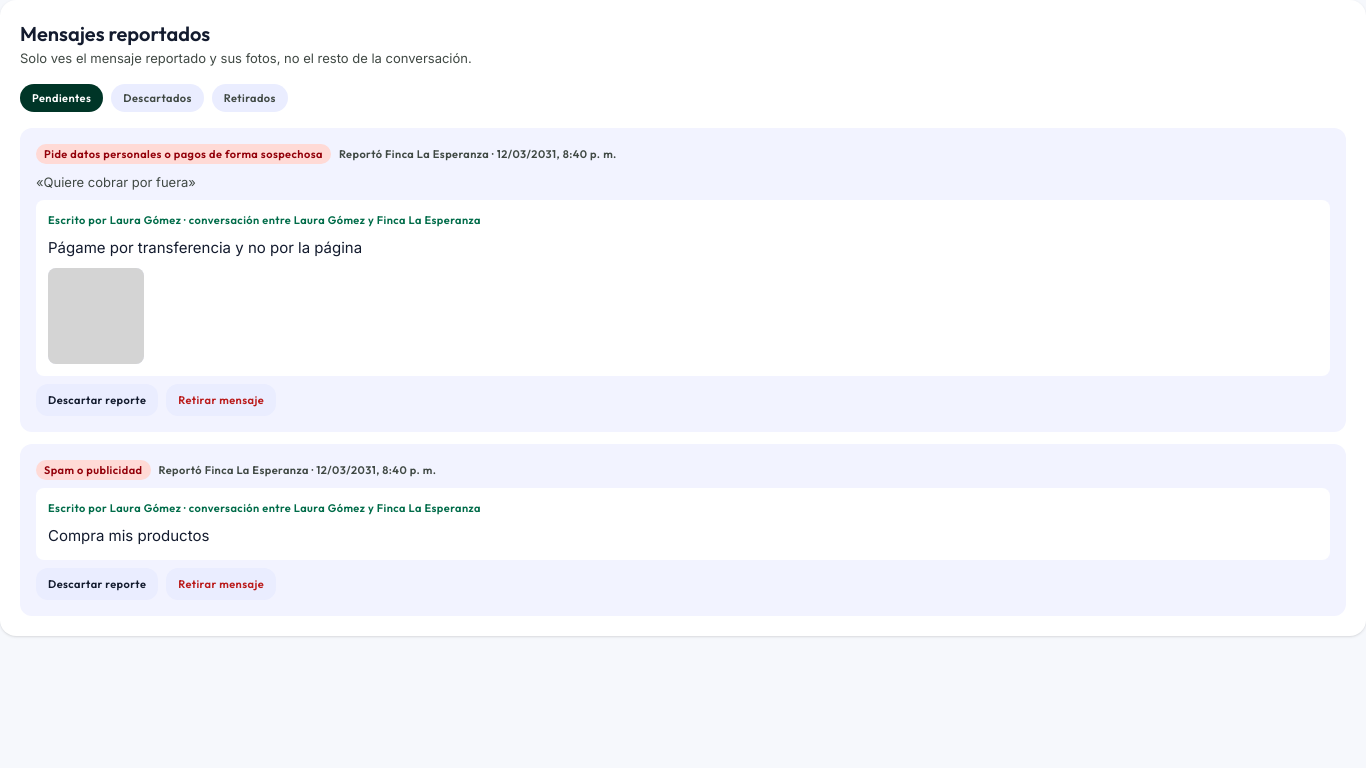
ReportesMensajesAdmin › si resolver falla muestra el motivo y deja el reporte donde estaba
Check: the text "Compra mis productos" is shown, box [48, 526, 209, 545]
Click the button "Descartar reporte" below "Compra mis productos" at [97, 584], box [36, 568, 158, 600]
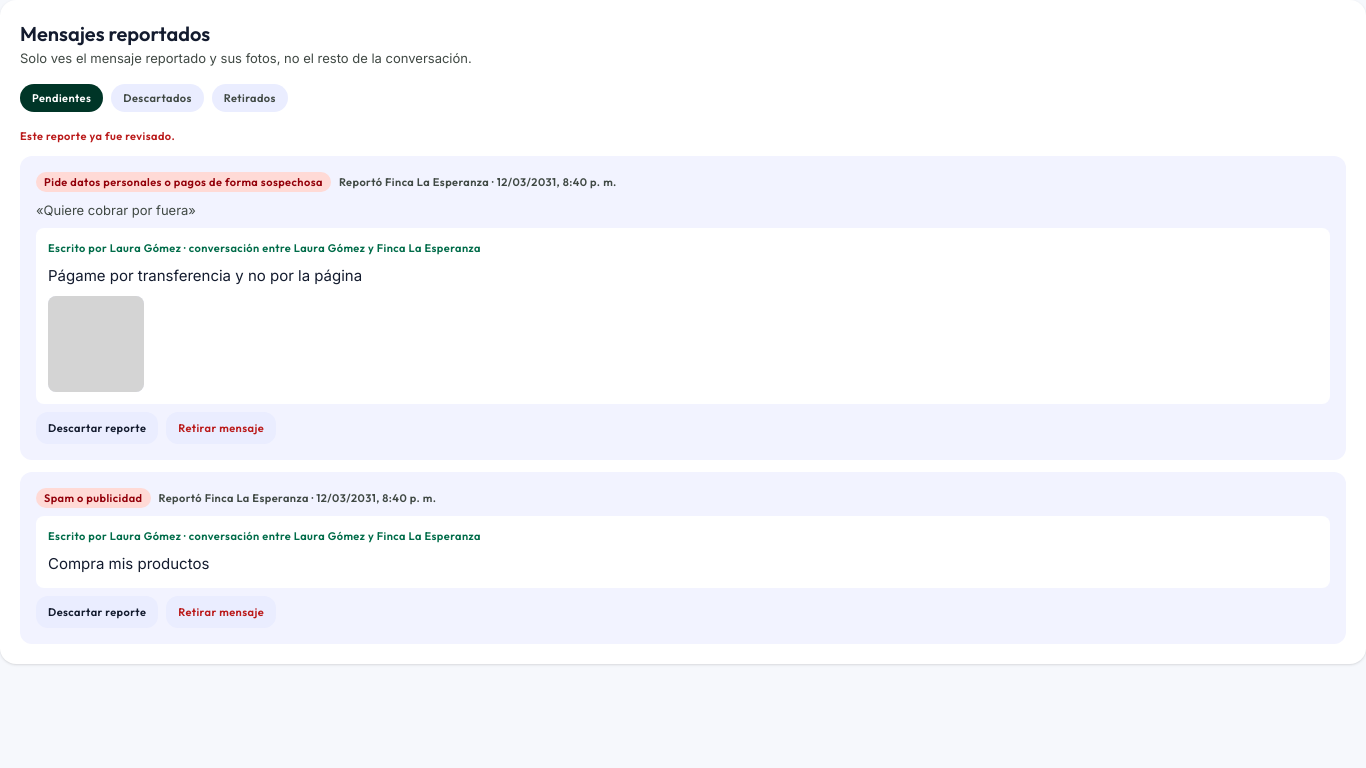
Check: the text "Compra mis productos" is shown, box [48, 554, 209, 573]
Check: the message reads "Este reporte ya fue revisado.", box [20, 129, 175, 143]
